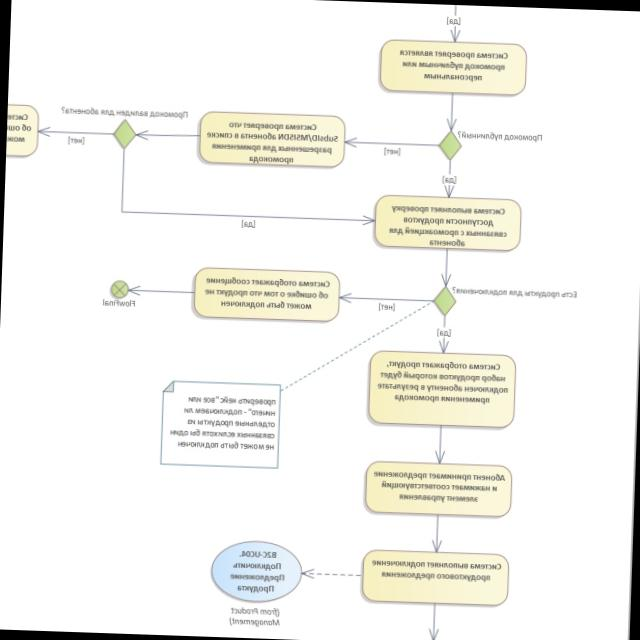arrow: (116, 148, 377, 227), (343, 136, 440, 151), (339, 292, 435, 306), (38, 125, 114, 140), (128, 285, 195, 299), (135, 129, 200, 143), (301, 567, 362, 581), (440, 158, 458, 197), (436, 311, 452, 352), (438, 248, 454, 287), (433, 425, 447, 465), (445, 94, 458, 132), (427, 603, 440, 640), (430, 513, 442, 553)
diamond: (435, 132, 464, 161), (430, 286, 458, 316), (110, 120, 138, 148)
rectangle: (368, 351, 514, 429), (378, 39, 527, 98), (373, 194, 520, 252), (364, 461, 511, 518), (199, 111, 345, 168), (360, 550, 507, 606), (194, 268, 340, 322)
text_region: (457, 126, 546, 143), (433, 324, 455, 338), (377, 300, 397, 315), (382, 144, 404, 157), (64, 135, 86, 147), (440, 173, 459, 185), (446, 15, 463, 27), (240, 219, 255, 230)
